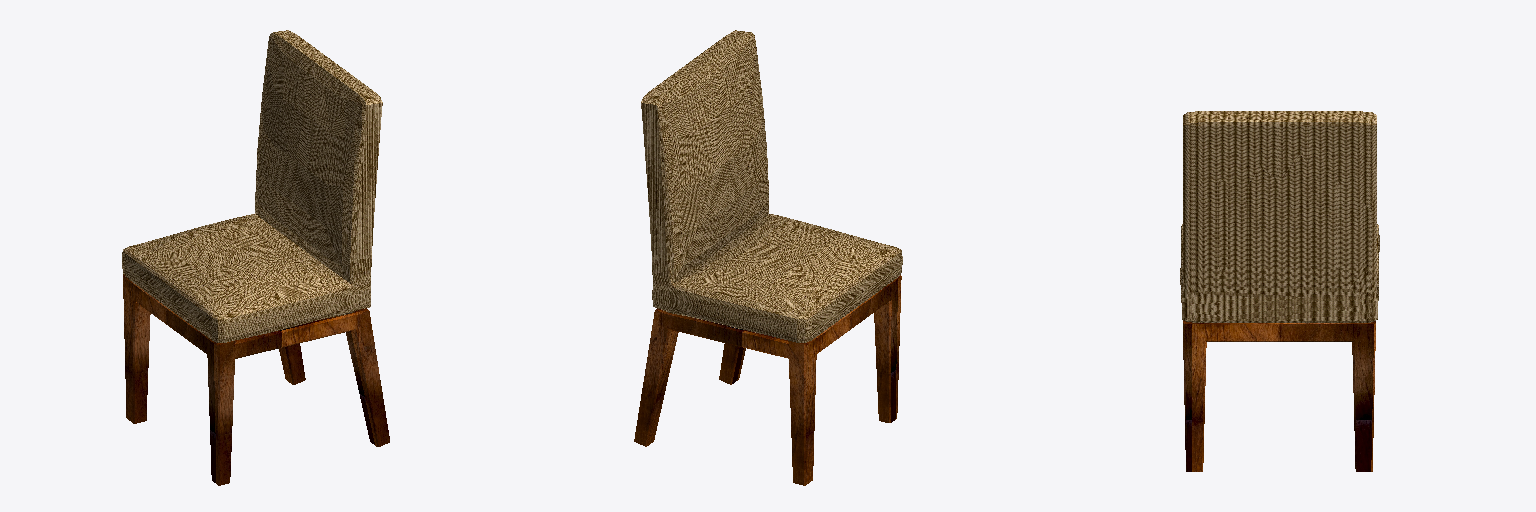
3 renders of one model, left to right at view 1: azimuth 30°, elevation 25°; view 2: azimuth 150°, elevation 25°; view 3: azimuth 270°, elevation 25°, orthographic.
Parts seen in each view (by area): view 1: Box[number redacted], Loft996, Loft997, Rectangl018; view 2: Box[number redacted], Loft996, Loft997, Rectangl017; view 3: Box[number redacted], Loft997.
Boxes of the visible parts, box(x1,y1,x2,y2) form: Box[number redacted]: box(122, 30, 382, 342); Loft996: box(123, 274, 235, 485); Loft997: box(279, 308, 389, 446); Rectangl018: box(234, 309, 366, 358); Box[number redacted]: box(641, 30, 902, 342); Loft996: box(788, 275, 901, 485); Loft997: box(634, 308, 745, 446); Rectangl017: box(657, 309, 789, 358); Box[number redacted]: box(1180, 111, 1379, 322); Loft997: box(1183, 321, 1375, 471).
Bounding box in the file's own units: 0.5586 × 1.06 × 0.5459.
2 materials, 2 textured.